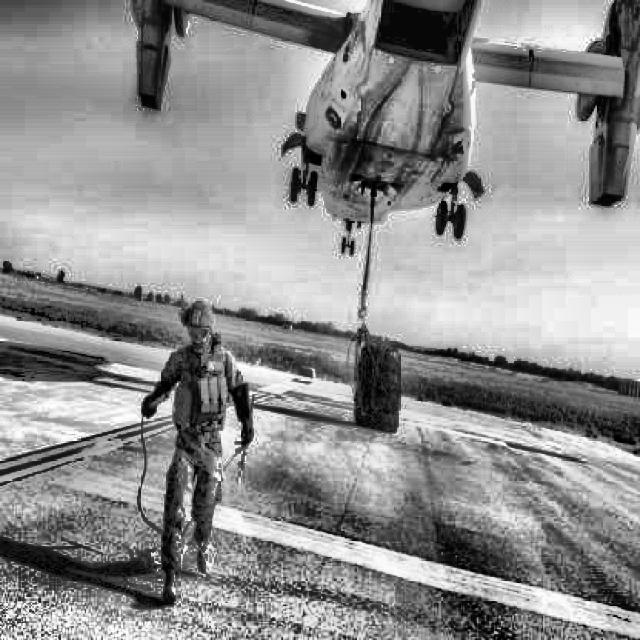V22: (131, 0, 640, 257)
